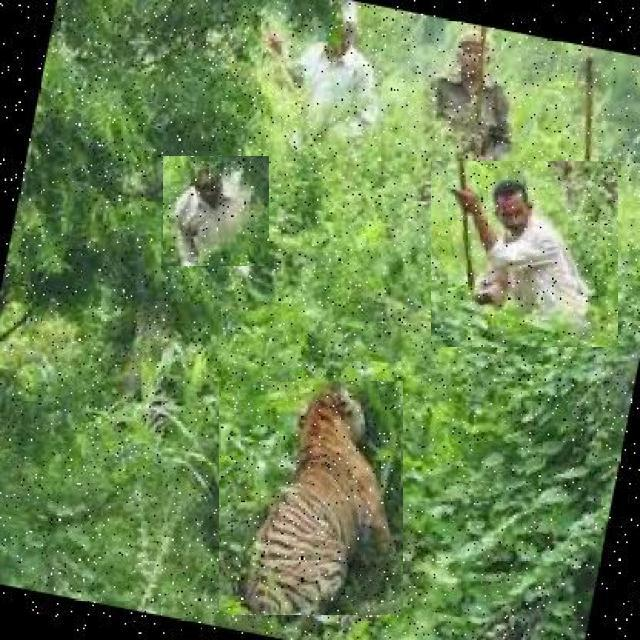p_active: (219, 382, 403, 616)
poacher: (431, 162, 618, 348), (275, 2, 380, 190), (418, 28, 524, 192), (163, 156, 269, 266)
